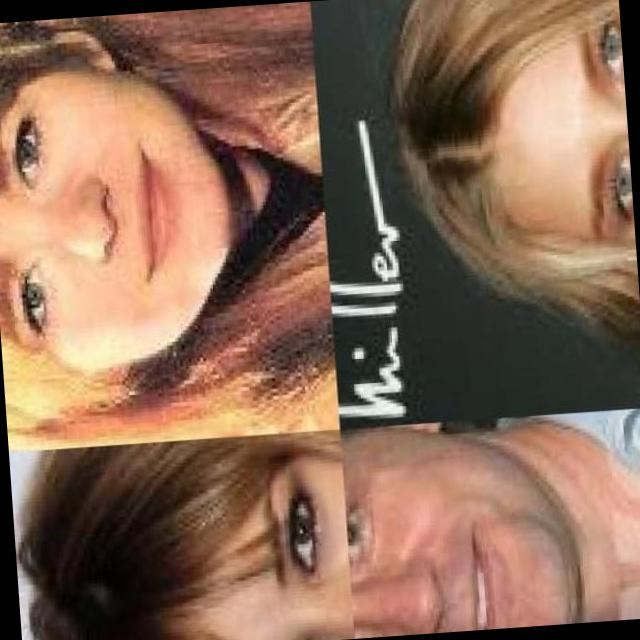bareface: (0, 52, 286, 406)
